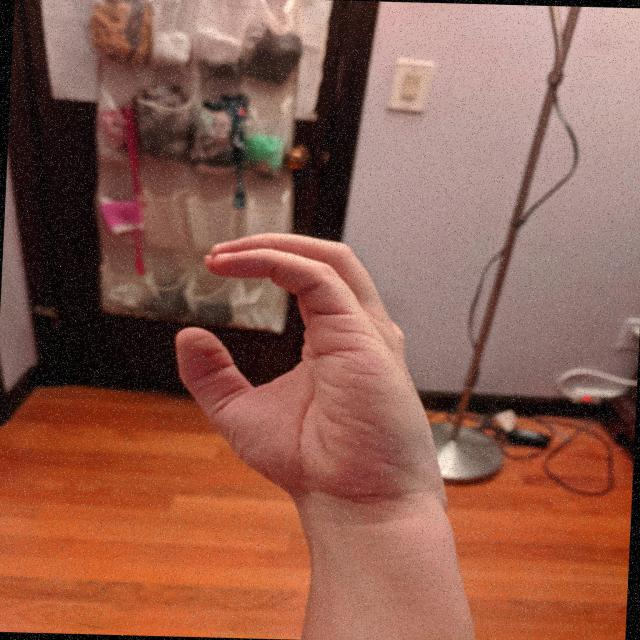C: (161, 224, 459, 511)
